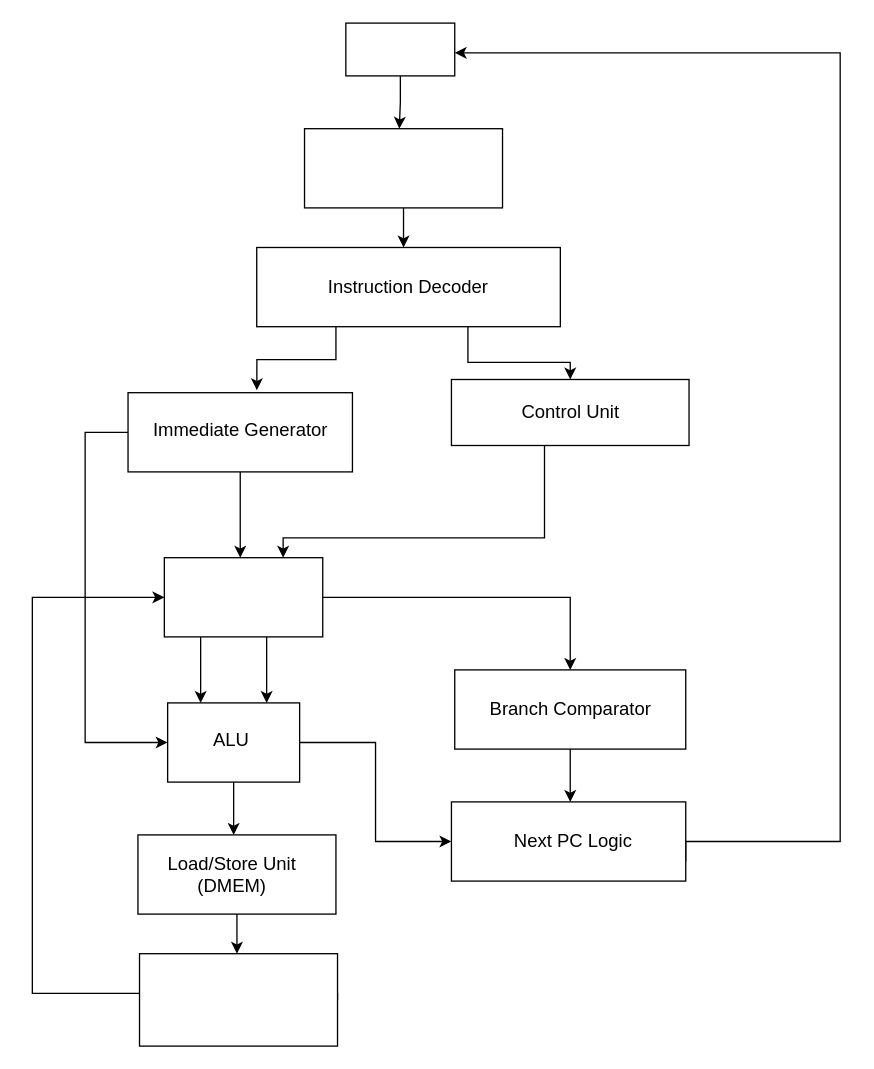
Image size: 874x1069. Some labels were removed from this diagram. The centre of each missing label's shape, as x and y in pixels:
"Instruction Memory (IMEM)" goes at (403,167).
"PC" goes at (400,49).
"Register File" goes at (243,596).
"Write Back MUX" goes at (238,999).
